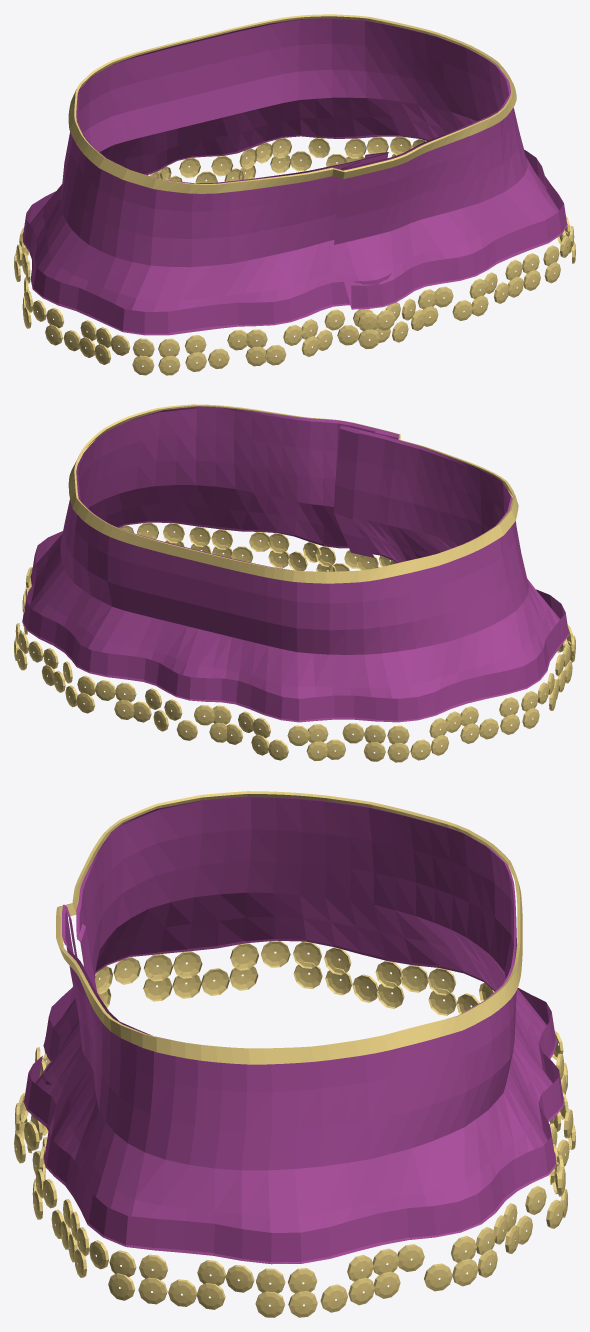
File: ewb_coinbelt.glb
3 renders of one model, top to bottom at view 1: azimuth 30°, elevation 25°; view 2: azimuth 150°, elevation 25°; view 3: azimuth 270°, elevation 25°, orthographic. The views are drawn at different scales.
Parts seen in each view (by area): view 1: ewb_coinbelt; view 2: ewb_coinbelt; view 3: ewb_coinbelt.
Part boxes in pixels (x1,y1,x2,y2): ewb_coinbelt: [14, 14, 575, 375]; ewb_coinbelt: [14, 404, 575, 762]; ewb_coinbelt: [14, 791, 575, 1317].
Bounding box in the file's own units: 0.4869 × 0.1584 × 0.347.
